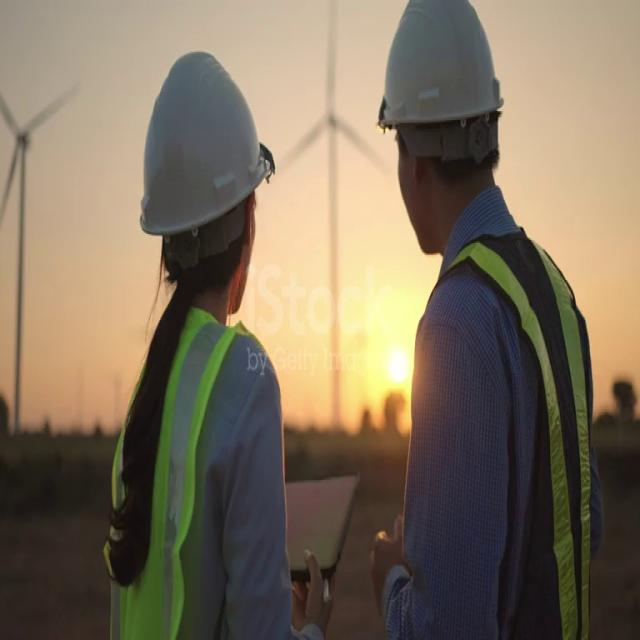capacete: (121, 47, 277, 286), (362, 0, 521, 180)
